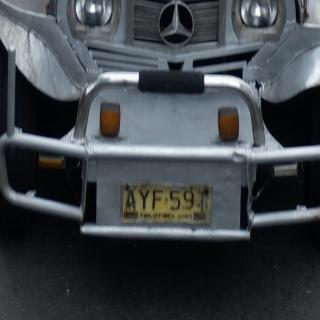license: (122, 185, 212, 225)
